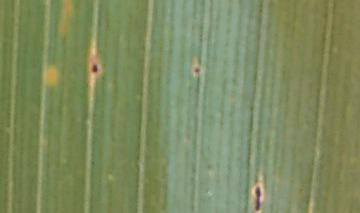tarspot: (253, 183, 262, 213), (90, 63, 100, 74), (193, 65, 201, 75)
